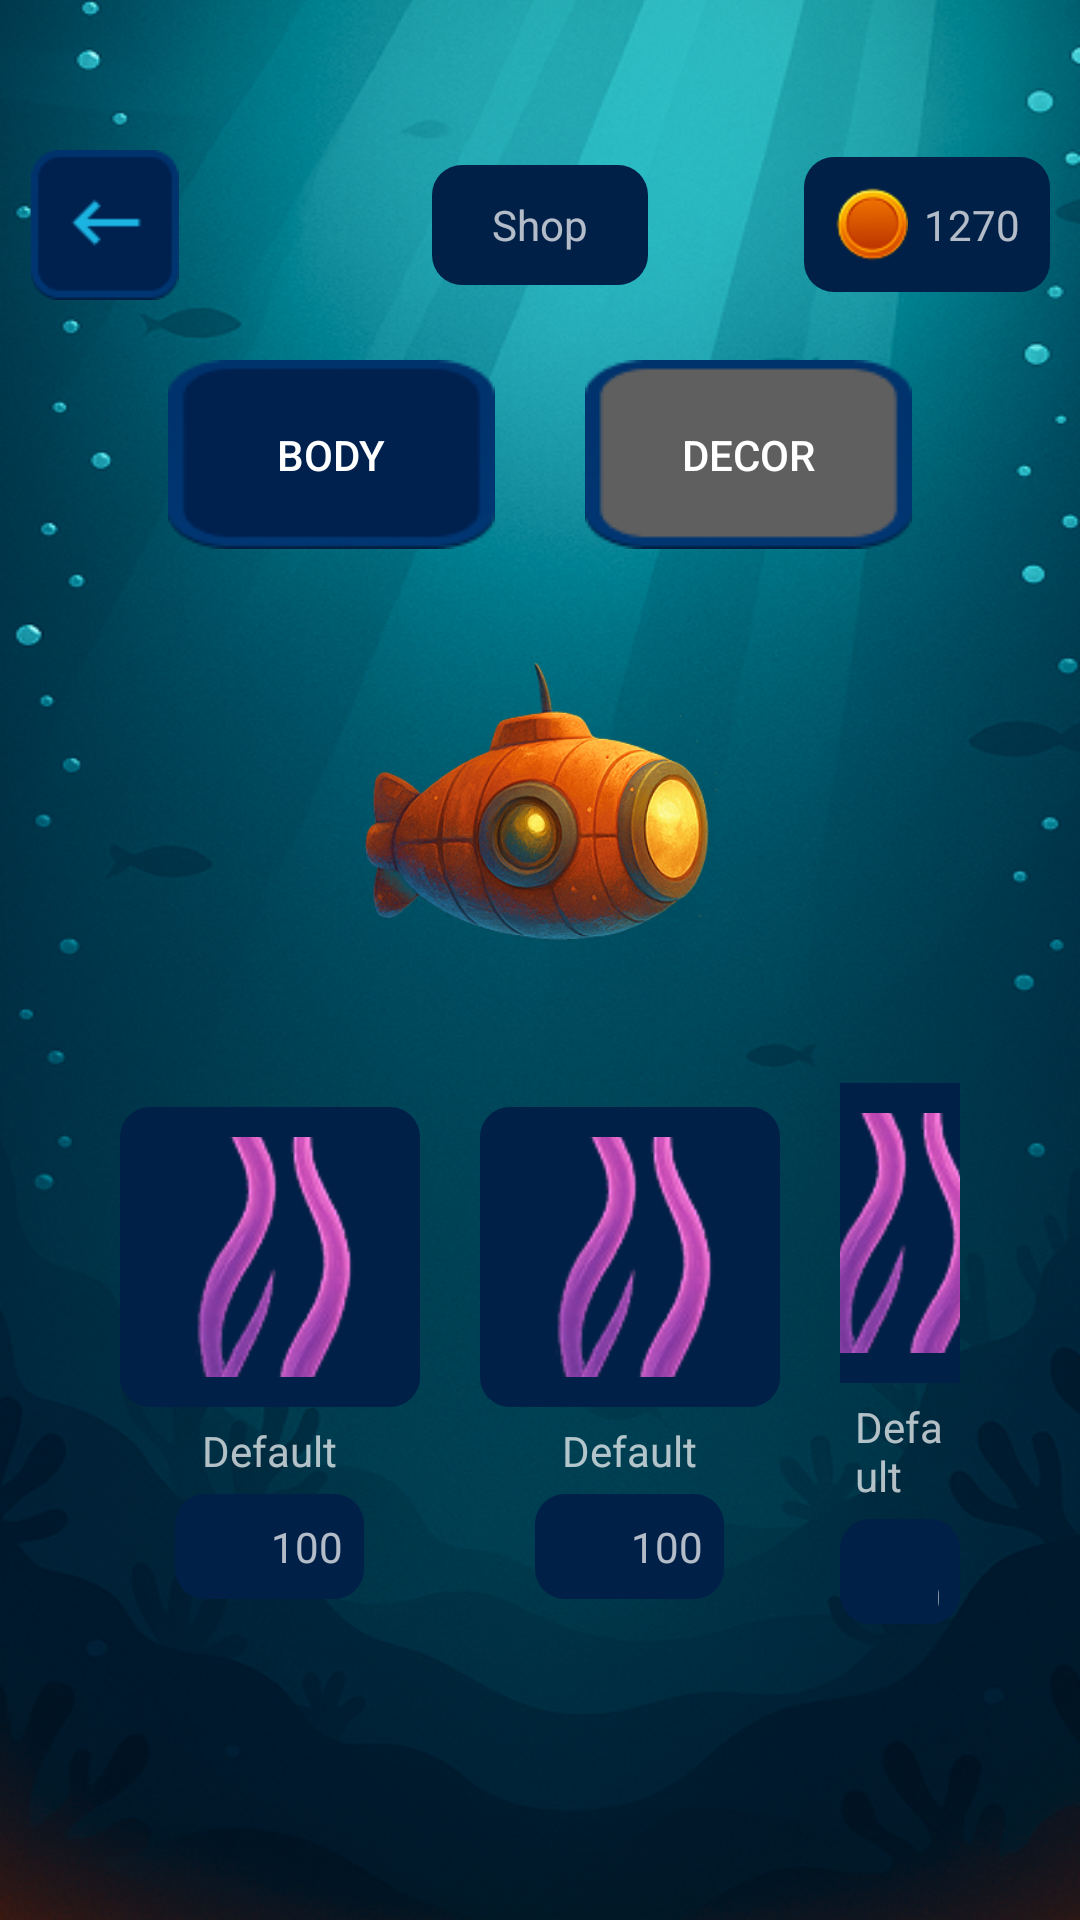

Icon click points for this 1080px x 1920px phone screenshot, format point (x, y):
back: point (105, 225)
coin: point (872, 224)
